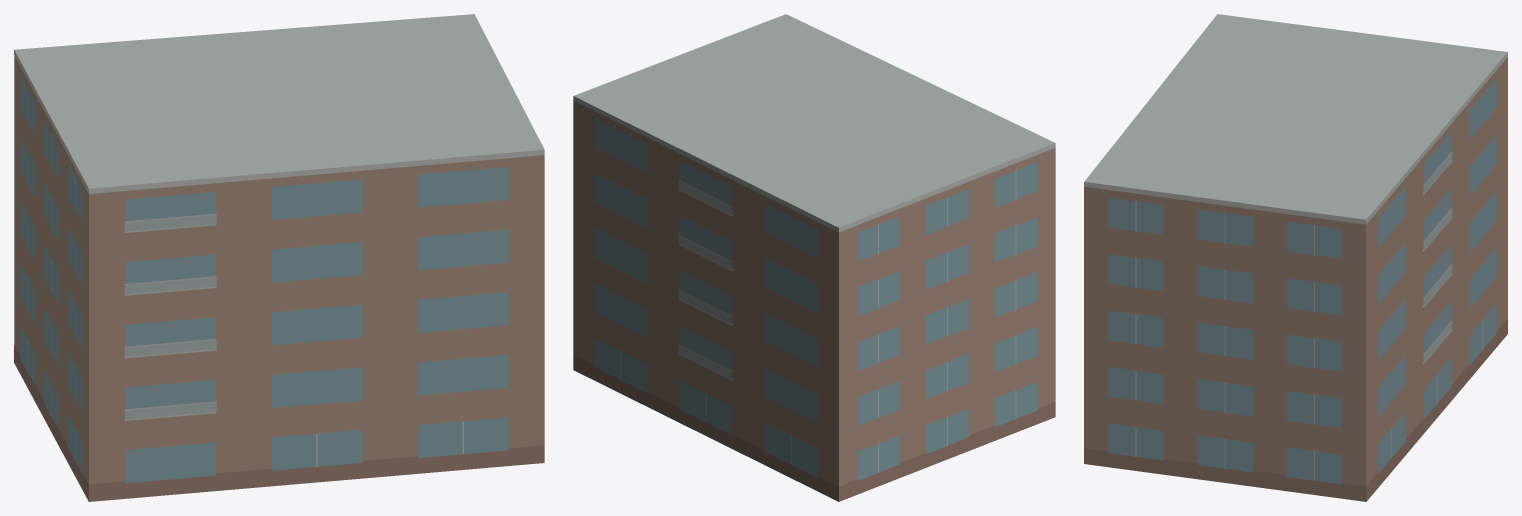
Rendered from survey-upis-32975520.glb.
3 renders of one model, left to right at view 1: azimuth 30°, elevation 25°; view 2: azimuth 150°, elevation 25°; view 3: azimuth 270°, elevation 25°, orthographic. The views are drawn at different scales.
Parts seen in each view (by area): view 1: survey-upis-32975520.tmp; view 2: survey-upis-32975520.tmp; view 3: survey-upis-32975520.tmp.
Part boxes in pixels (x1,y1,x2,y2): survey-upis-32975520.tmp: (14, 14, 544, 501); survey-upis-32975520.tmp: (573, 14, 1055, 501); survey-upis-32975520.tmp: (1084, 14, 1507, 501).
Bounding box in the file's own units: 22.23 × 14.2 × 19.34.
